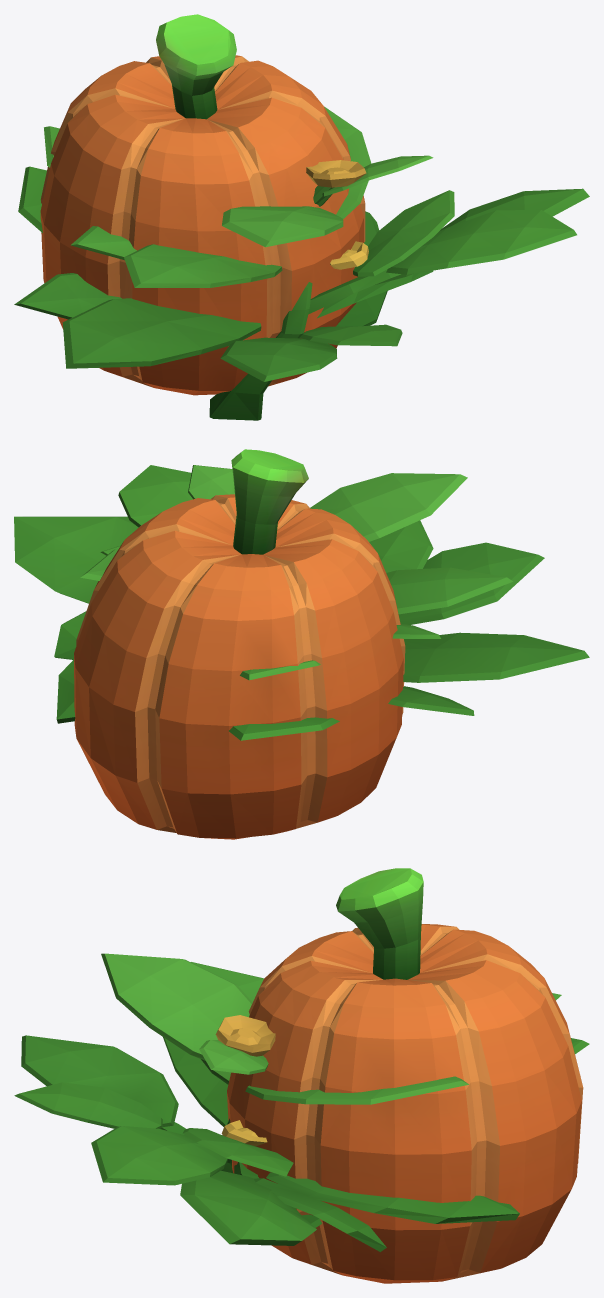
File: crop_pumpkin_stage3.glb
3 views of the same model, one above another, from view 1: azimuth 30°, elevation 25°; view 2: azimuth 150°, elevation 25°; view 3: azimuth 270°, elevation 25° (orthographic). The views are drawn at different scales.
Visible parts, largest first — view 1: crop_pumpkin_stage3; view 2: crop_pumpkin_stage3; view 3: crop_pumpkin_stage3.
Boxes of the visible parts, box(x1,y1,x2,y2) form: crop_pumpkin_stage3: box(14, 14, 589, 420); crop_pumpkin_stage3: box(14, 449, 589, 839); crop_pumpkin_stage3: box(14, 868, 589, 1283).
Size of the model in its own units: 0.66 by 0.4 by 0.574.
Materials: 1 (1 with a texture image).
